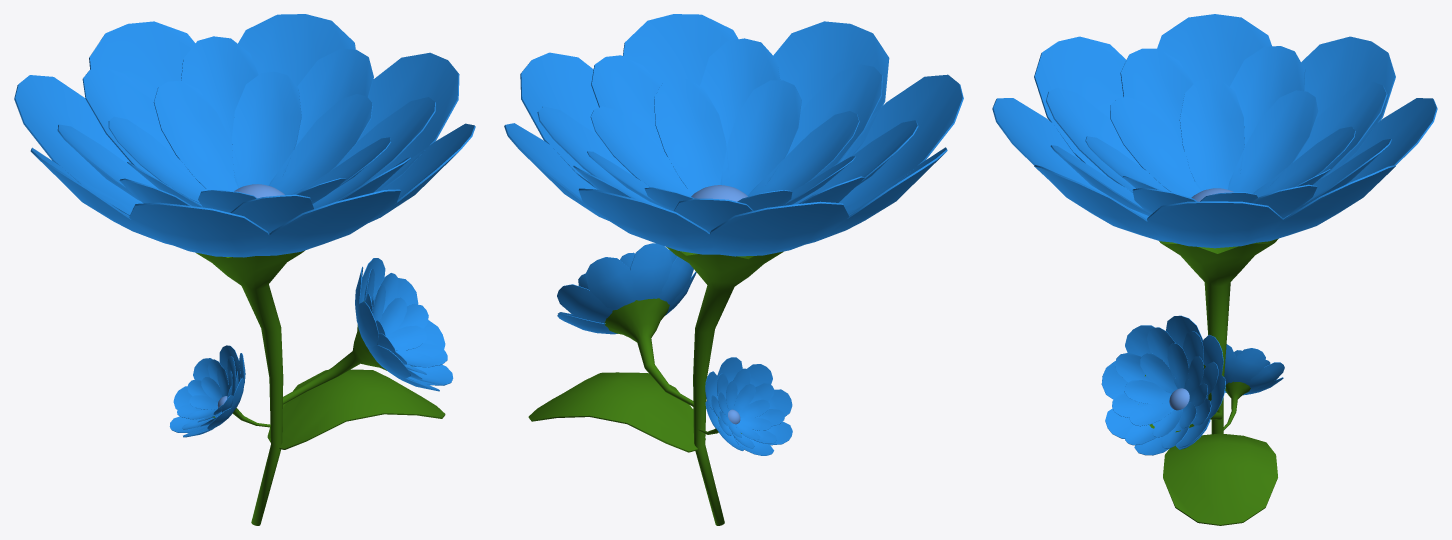
The model's file is flower2.FBX.
3 renders of one model, left to right at view 1: azimuth 30°, elevation 25°; view 2: azimuth 150°, elevation 25°; view 3: azimuth 270°, elevation 25°, orthographic. The views are drawn at different scales.
Parts seen in each view (by area): view 1: Plane095, Plane018, Plane035, Plane036, Cylinder002, Plane020, Plane016, Plane017, Plane009, Plane034, Plane021, Plane026 (+19 smaller); view 2: Plane095, Plane020, Plane021, Plane040, Cylinder002, Plane018, Plane022, Plane033, Plane031, Plane017, Plane030, Plane034 (+22 smaller); view 3: Plane095, Plane038, Plane020, Plane019, Plane037, Plane018, Plane009, Plane039, Cylinder002, Plane028, Plane029, Plane021 (+27 smaller).
Part boxes in pixels (x1,y1,x2,y2): Plane095: [267, 369, 445, 449]; Plane018: [14, 75, 143, 215]; Plane035: [232, 71, 301, 188]; Plane036: [153, 80, 242, 191]; Cylinder002: [196, 250, 304, 525]; Plane020: [129, 202, 269, 257]; Plane016: [238, 14, 355, 86]; Plane017: [89, 21, 195, 100]; Plane009: [358, 52, 459, 191]; Plane034: [269, 94, 372, 195]; Plane021: [254, 189, 400, 255]; Plane026: [181, 36, 258, 144]; Plane095: [528, 372, 705, 452]; Plane020: [838, 74, 963, 214]; Plane021: [773, 21, 889, 160]; Plane040: [720, 80, 801, 195]; Cylinder002: [666, 247, 783, 525]; Plane018: [709, 201, 849, 256]; Plane022: [623, 14, 738, 85]; Plane033: [654, 78, 725, 181]; Plane031: [700, 38, 780, 148]; Plane017: [578, 188, 718, 254]; Plane030: [785, 64, 882, 179]; Plane034: [590, 106, 693, 196]; Plane095: [1163, 433, 1277, 525]; Plane038: [1179, 78, 1244, 191]; Plane020: [1034, 36, 1126, 181]; Plane019: [1157, 14, 1271, 86]; Plane037: [1228, 90, 1318, 193]; Plane018: [1301, 36, 1395, 173]; Plane009: [1147, 201, 1282, 248]; Plane039: [1110, 96, 1201, 197]; Cylinder002: [1159, 238, 1278, 434]; Plane028: [1230, 46, 1305, 148]; Plane029: [1120, 48, 1193, 149]; Plane021: [992, 98, 1148, 219].
Bounding box in the file's own units: 36.76 × 36 × 36.76.
